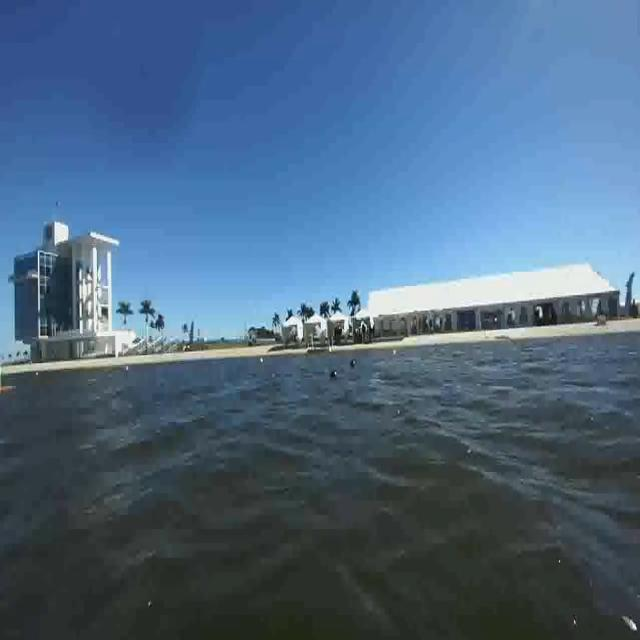black-buoy: (329, 368, 337, 380)
